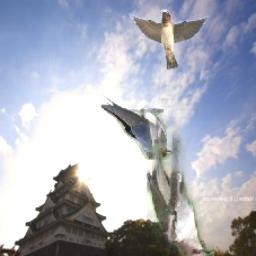Cuckoo: (147, 98, 214, 256)
Swallow: (91, 87, 171, 160), (129, 10, 210, 71)
